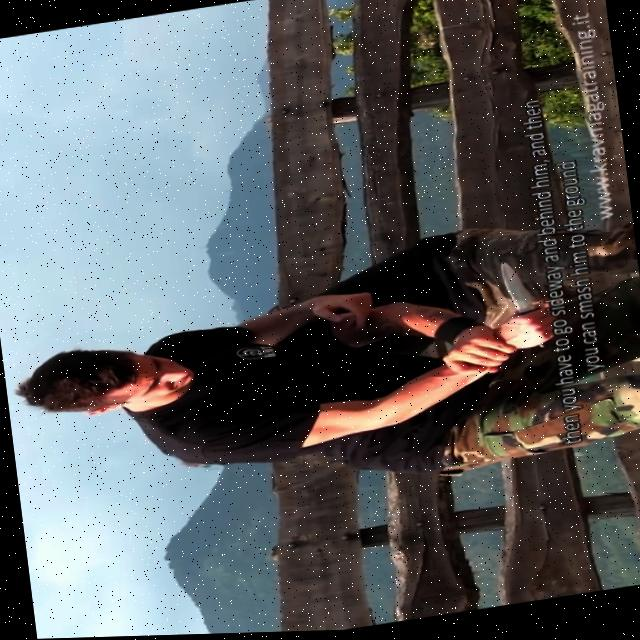knife: (494, 258, 552, 319)
